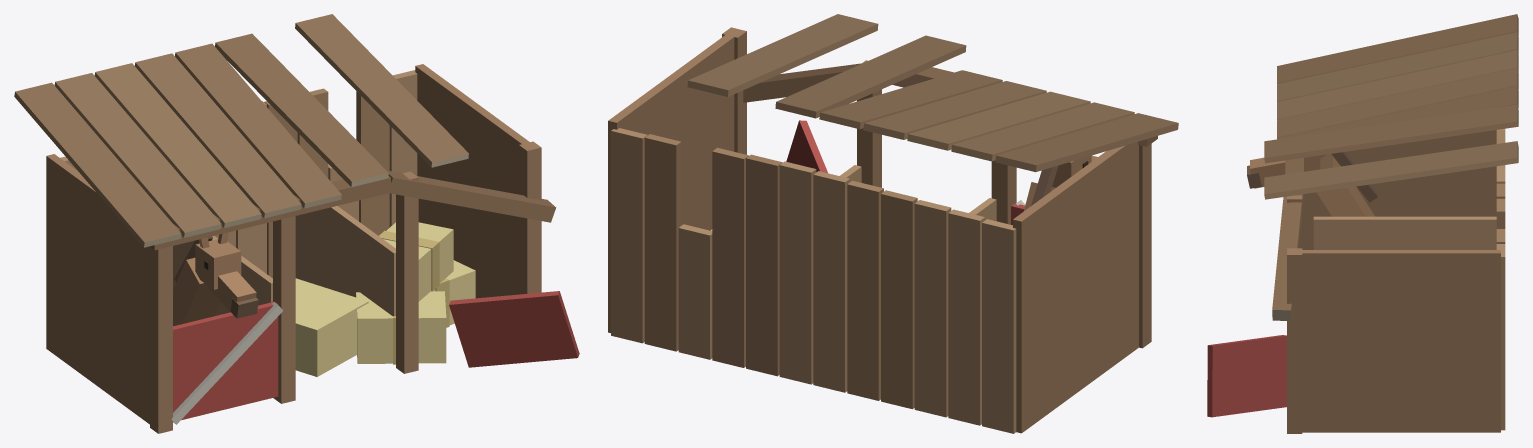
Rendered from stable.glb.
3 renders of one model, left to right at view 1: azimuth 30°, elevation 25°; view 2: azimuth 150°, elevation 25°; view 3: azimuth 270°, elevation 25°, orthographic. The views are drawn at different scales.
Parts seen in each view (by area): view 1: stable; view 2: stable; view 3: stable.
Boxes of the visible parts, x1,y1,x2,y2 form: stable: (14, 14, 579, 433); stable: (608, 14, 1178, 433); stable: (1207, 14, 1518, 433).
Size of the model in its own units: 5.12 by 3.14 by 3.63.
